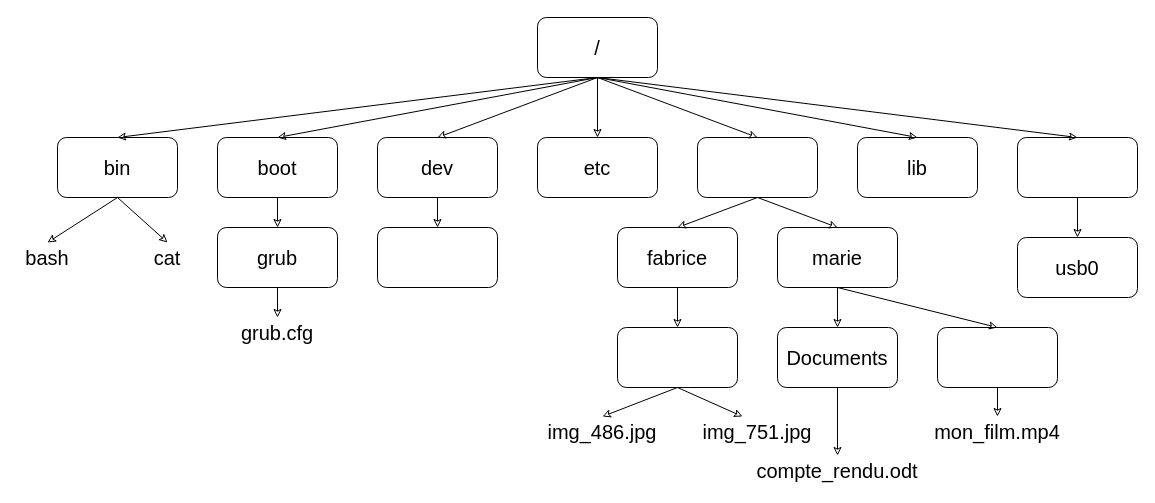
Some shapes in this 1155 by 503 pixel diagram are drawn without their labels. The centre of each missing label's shape, as x and y in pixels:
"cpu" belongs at (437,257).
"home" belongs at (757,167).
"Images" belongs at (677,357).
"media" belongs at (1077,167).
"Vidéos" belongs at (997,357).
